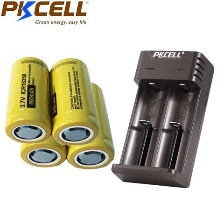battery: (61, 78, 116, 171), (46, 56, 102, 147), (17, 80, 69, 169), (2, 55, 53, 144)
